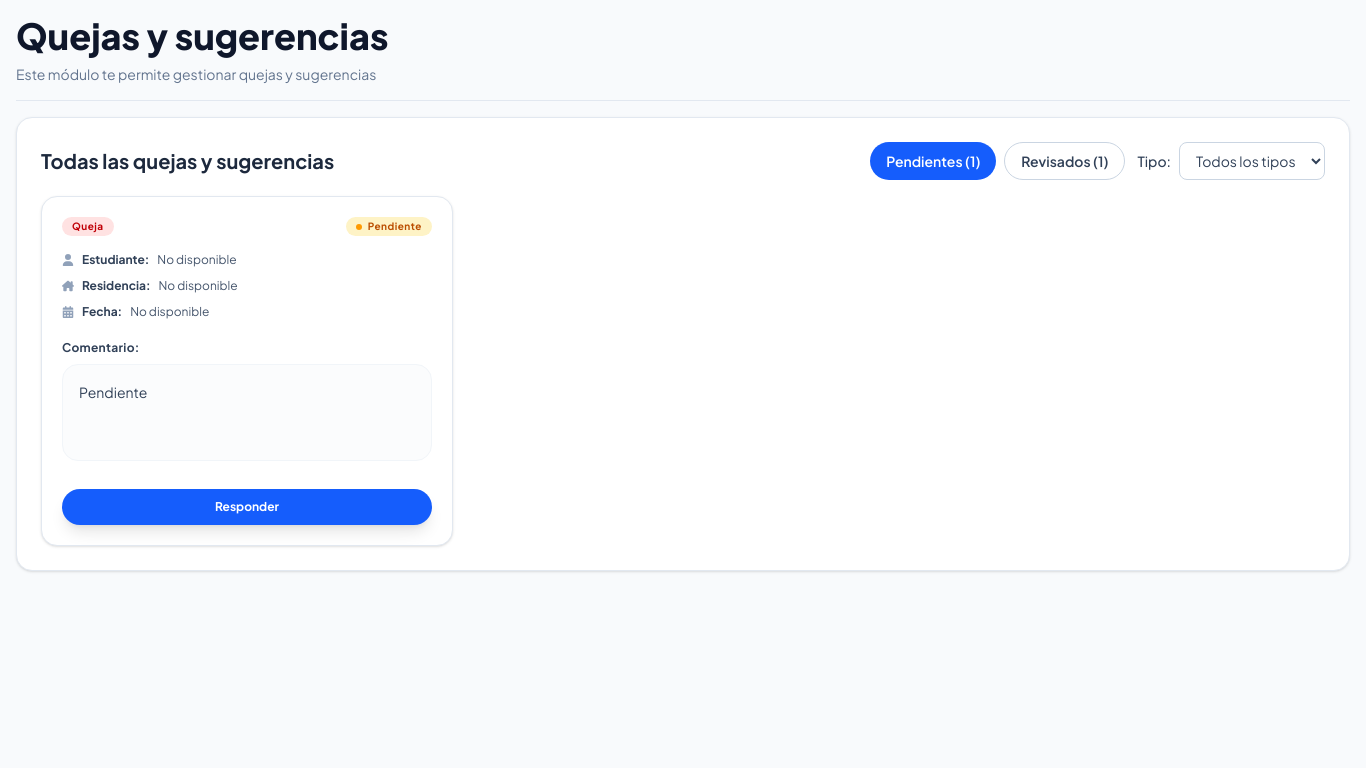
it: Feedback › muestra las quejas revisadas al cambiar el filtro
Click the button "Revisados (1)" at (1065, 161), box [1004,142,1125,180]
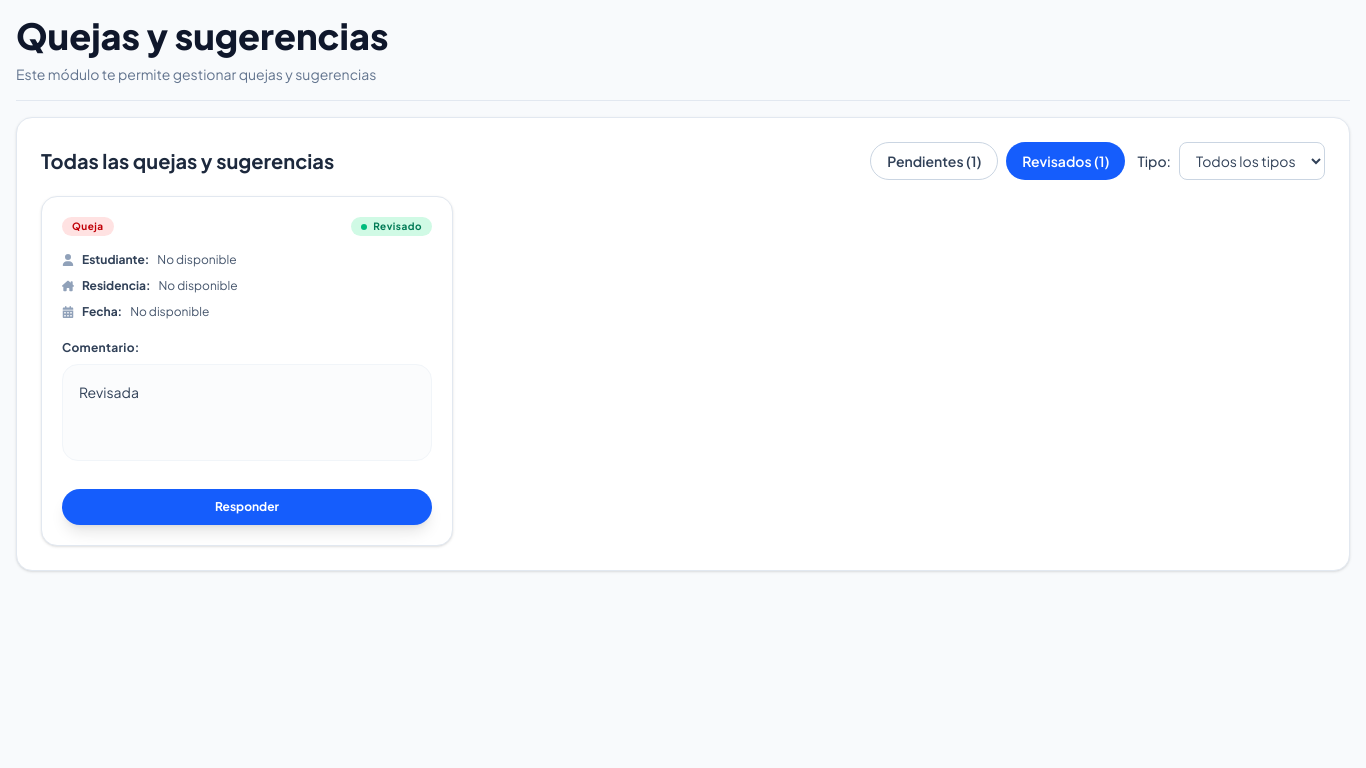
Result: the text "Revisada" is shown at [79,383,139,401]
